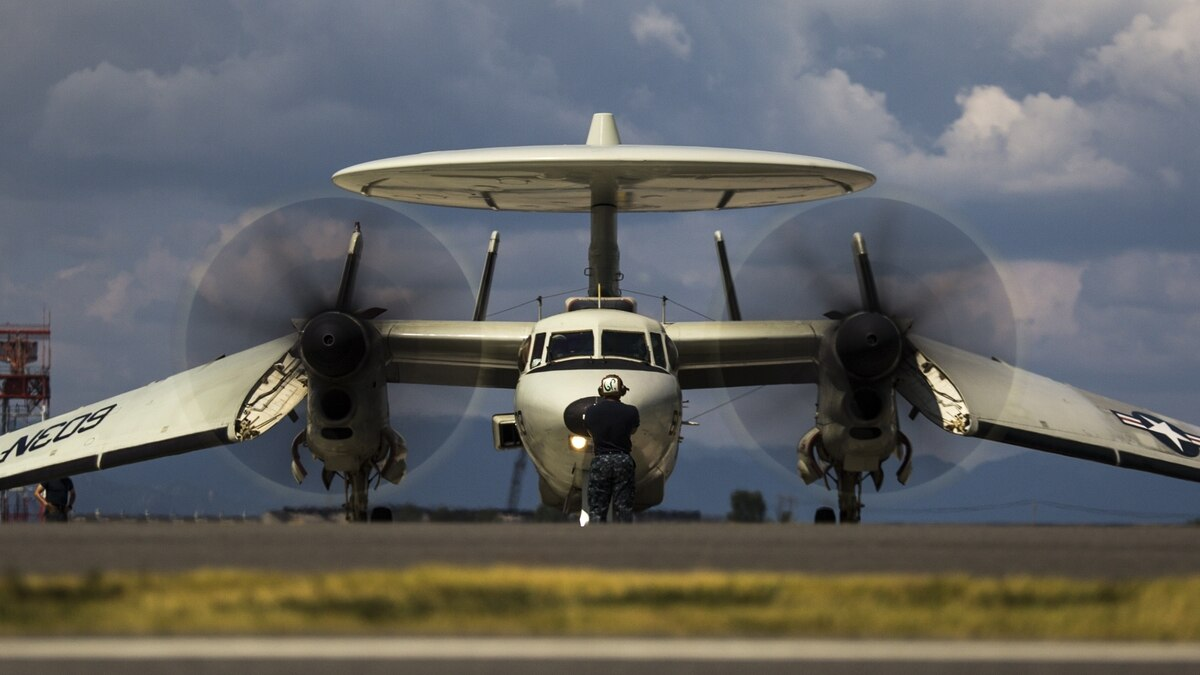E2: (1, 113, 1200, 521)
